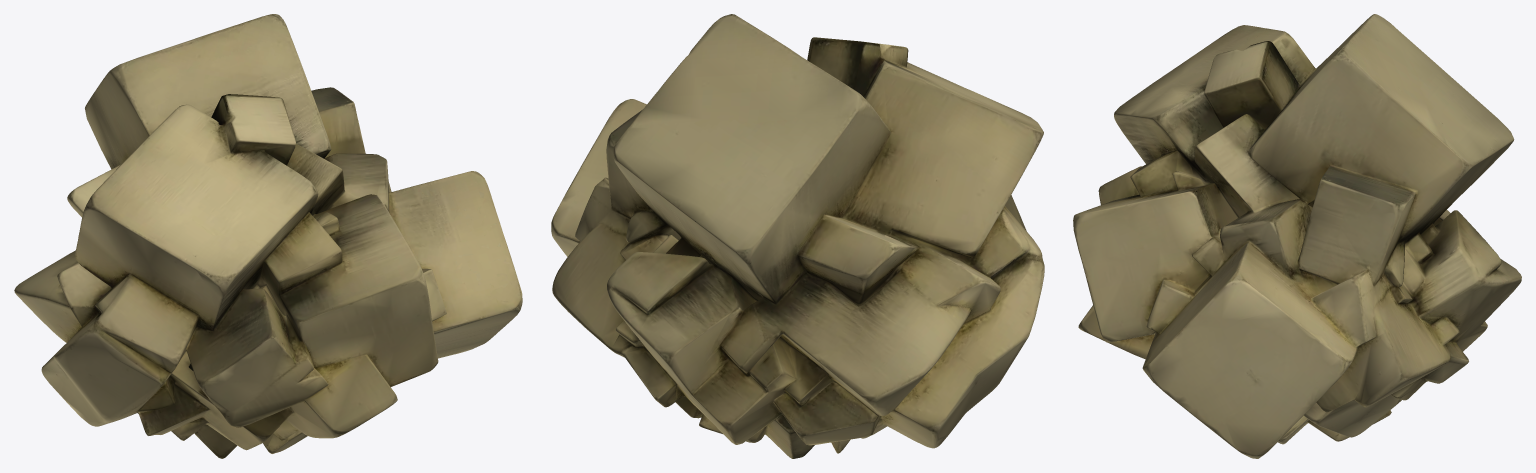
Rendered from pyrite.glb.
3 renders of one model, left to right at view 1: azimuth 30°, elevation 25°; view 2: azimuth 150°, elevation 25°; view 3: azimuth 270°, elevation 25°, orthographic. The views are drawn at different scales.
Parts seen in each view (by area): view 1: node_0; view 2: node_0; view 3: node_0.
Boxes of the visible parts, left/top/right/bottom form: node_0: left=14, top=14, right=522, bottom=458; node_0: left=551, top=14, right=1044, bottom=458; node_0: left=1073, top=14, right=1521, bottom=458.
Size of the model in its own units: 1.04 by 0.9755 by 0.9863.
1 material, 1 textured.
